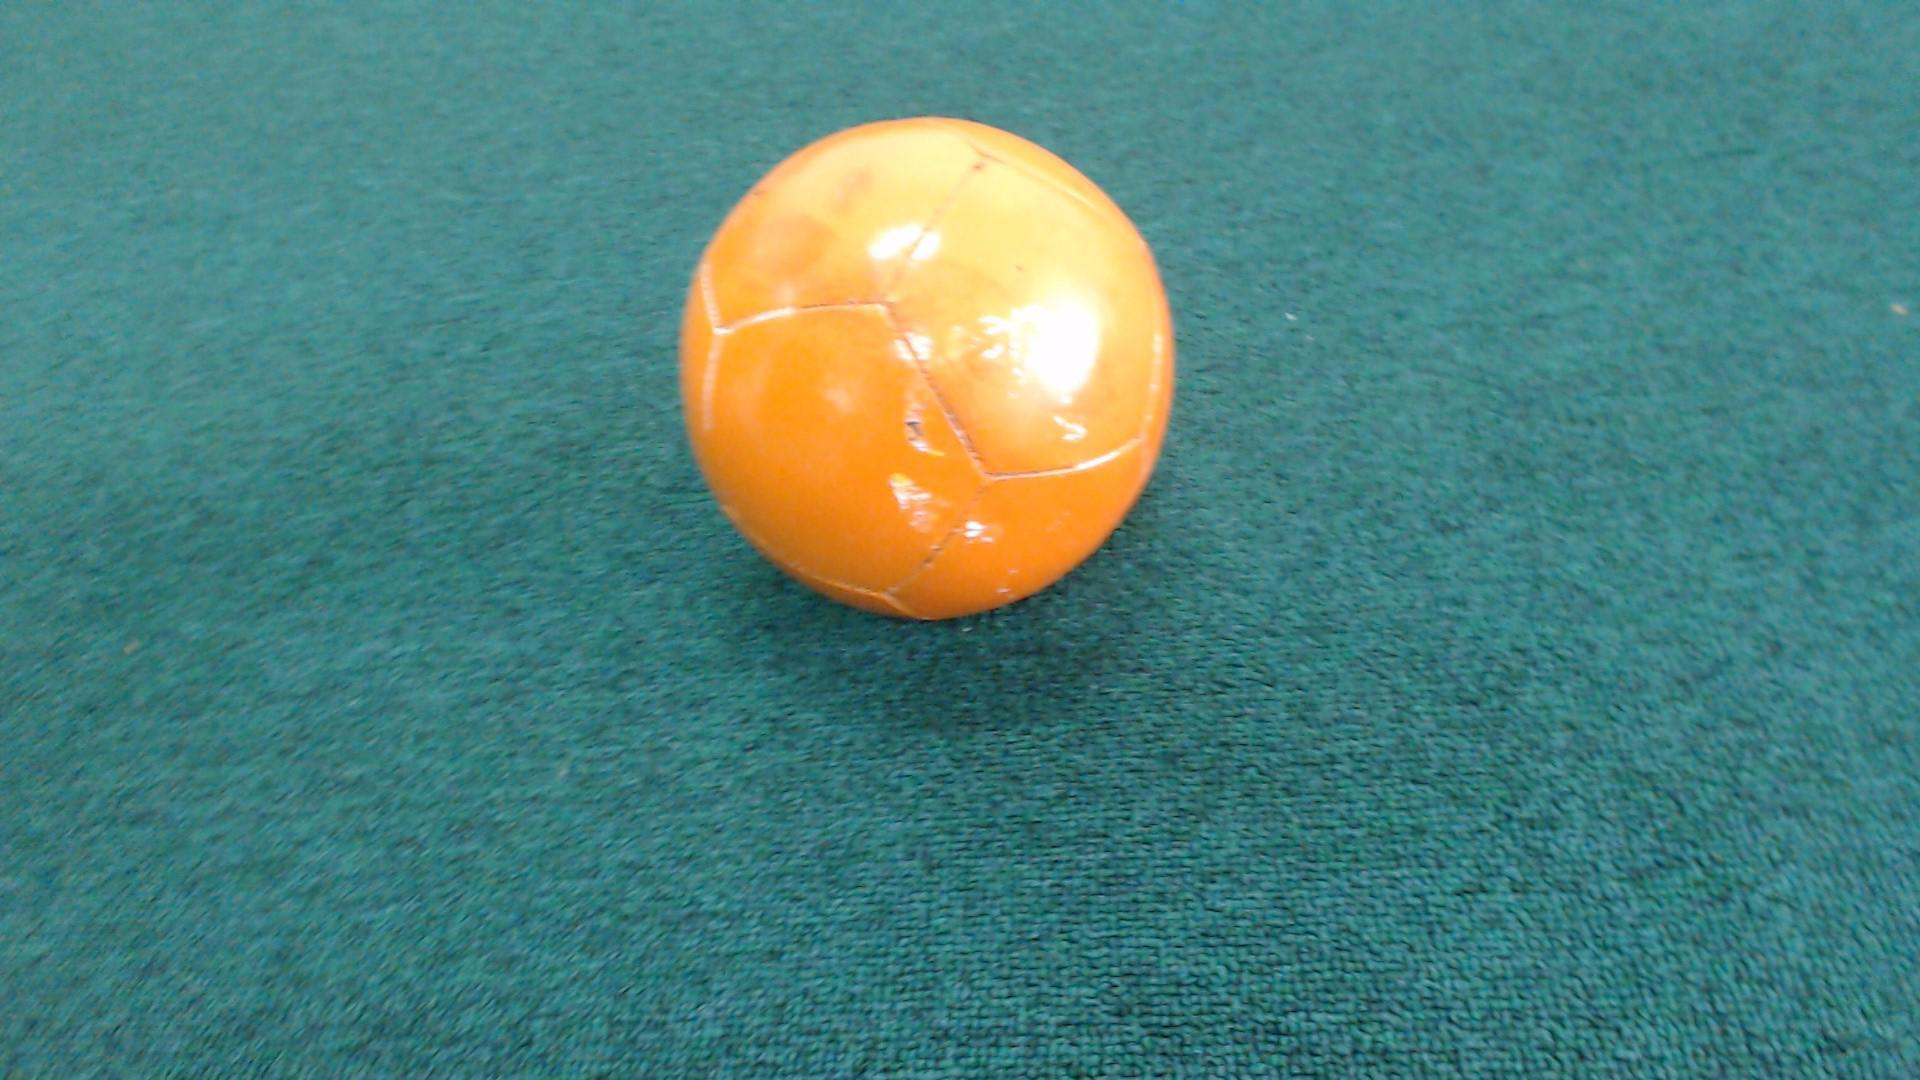bola: (657, 112, 1192, 624)
